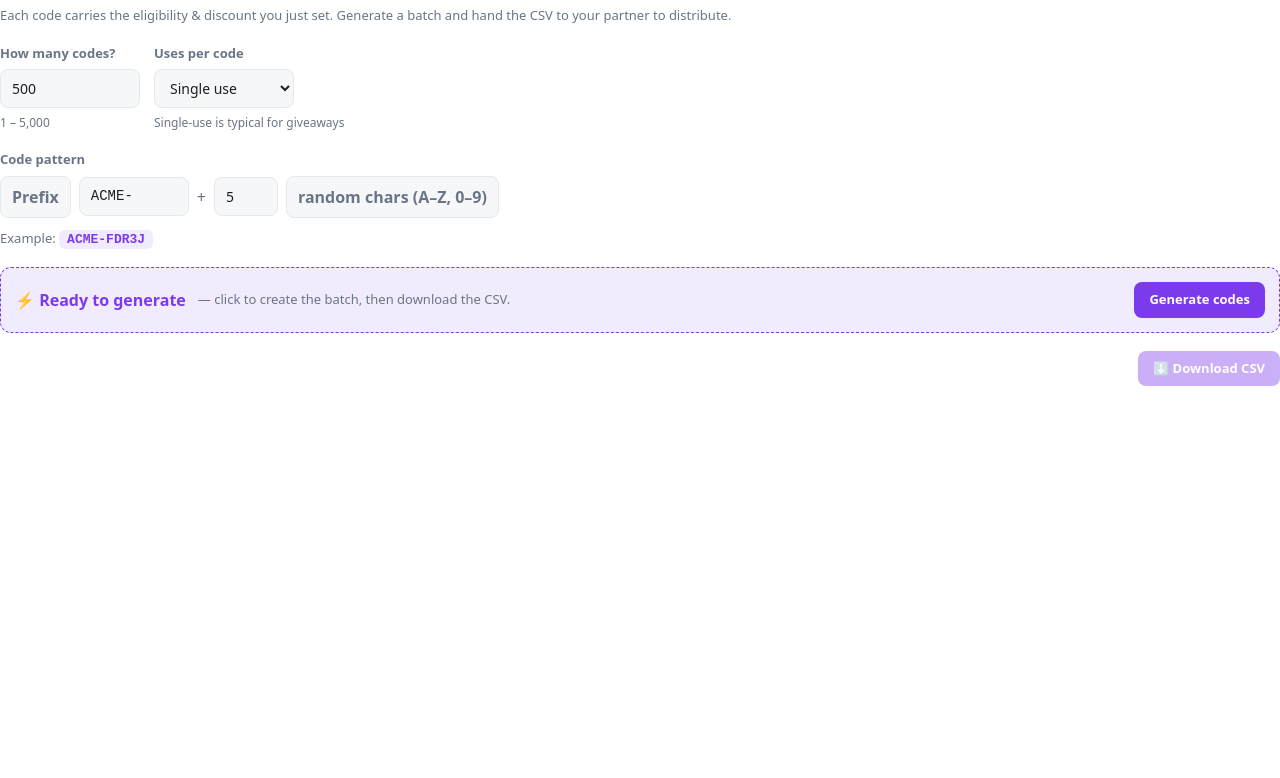
Test: CodeGenerator › shows 8 preview rows + "+ 17 more" after generating 25 codes
The image size is (1280, 778).
Set count to 25
Replace the text in the number field labelled "How many codes?" with "25" at (70, 88), box [0,69,140,108]
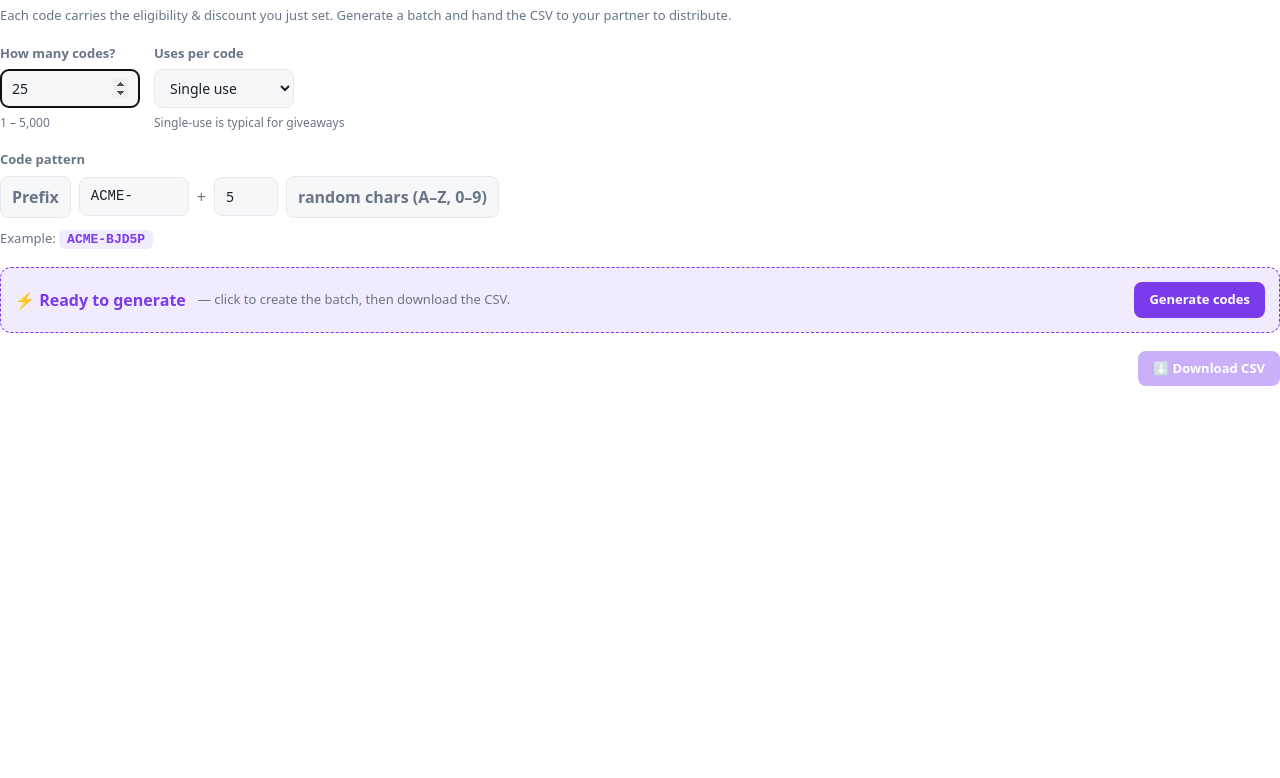
Click Generate
Click the button "Generate codes".
click(1200, 300)  # box [1134,282,1265,318]
(page scrolled)
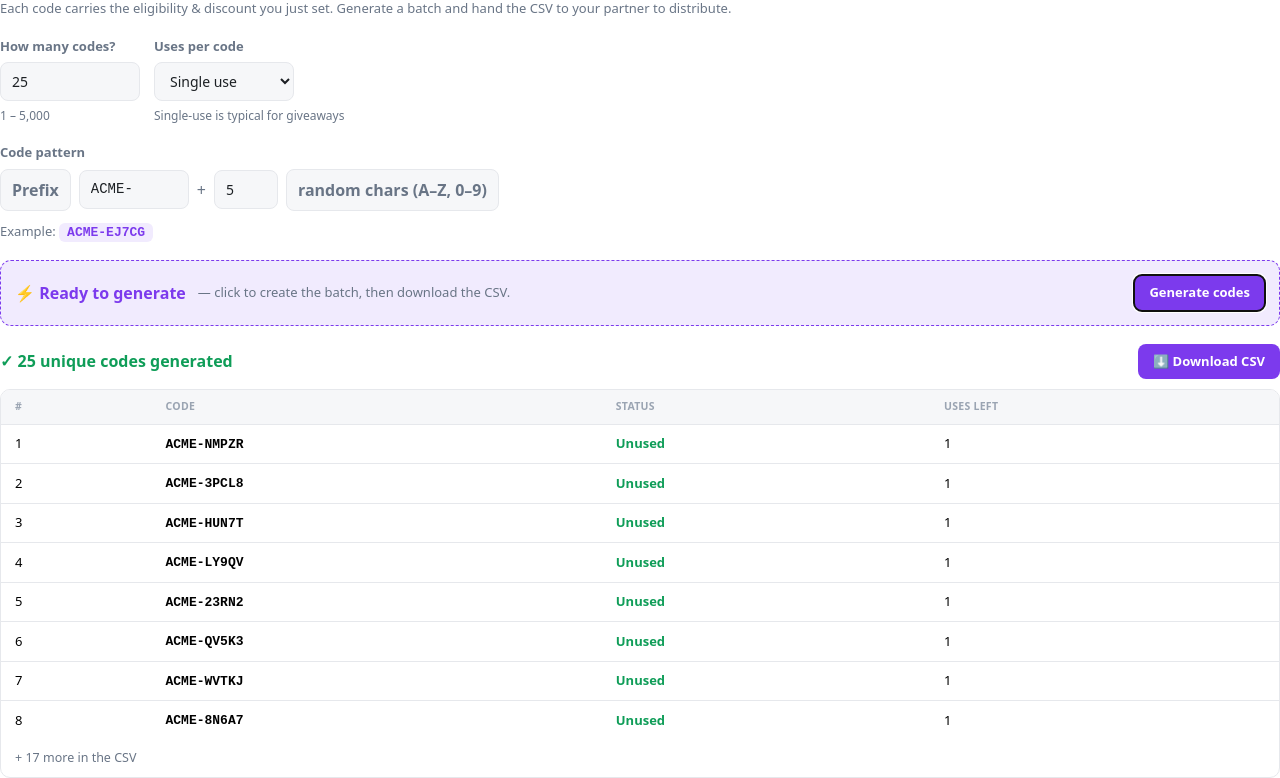
Result: the number of rows is 9
Result: the text "+ 17 more in the CSV" is shown at [15,749,136,766]
